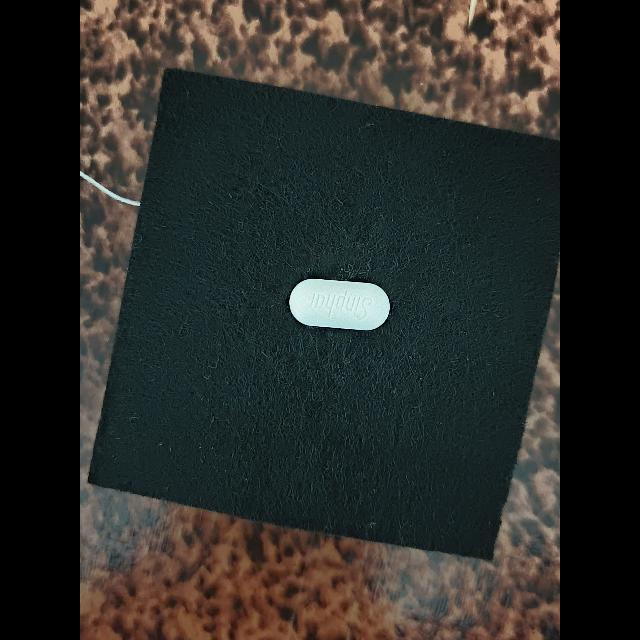Intact Pill: (289, 279, 390, 331)
